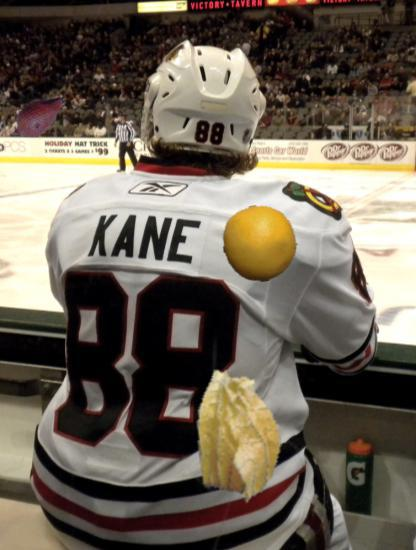Grapefruit: (221, 205, 298, 282)
Physalis: (169, 366, 308, 505)
Salak: (6, 85, 71, 150)
